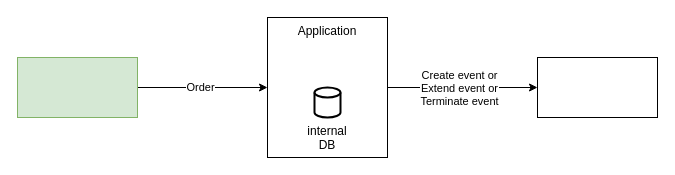
The diagram is 675 pixels wide and 175 high, and some of its shapes have lost their labels. Here are the shapes that lost their labels. From the top down, the centre of each, then its label:
At (77,87): "Energy Operator".
At (597,87): "Event Manager".
